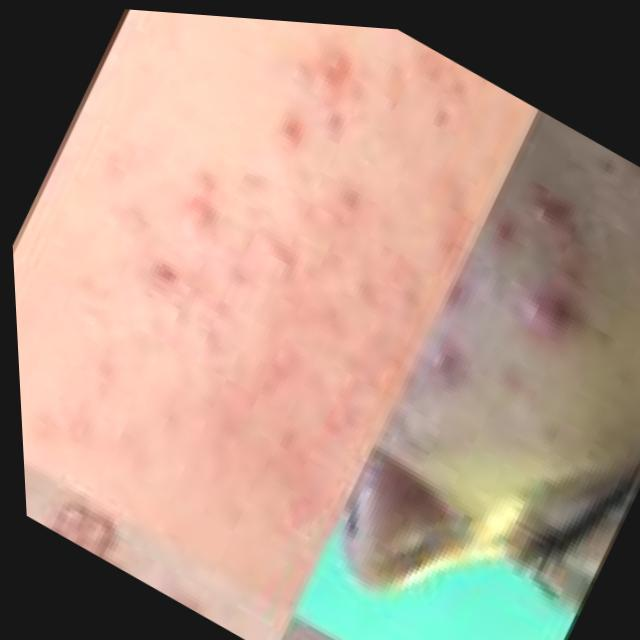cyst: (519, 301, 579, 340), (533, 190, 570, 233), (175, 204, 223, 234), (424, 349, 473, 373), (321, 53, 352, 77), (484, 223, 519, 244)
